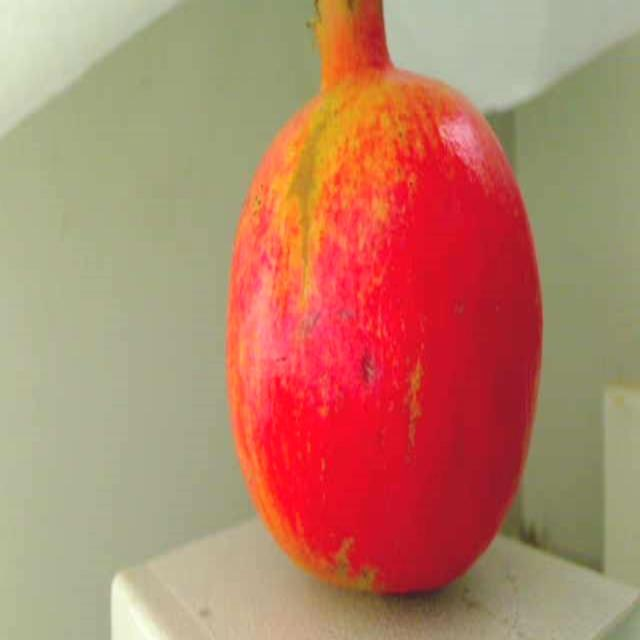pomegranate: (218, 0, 566, 614)
